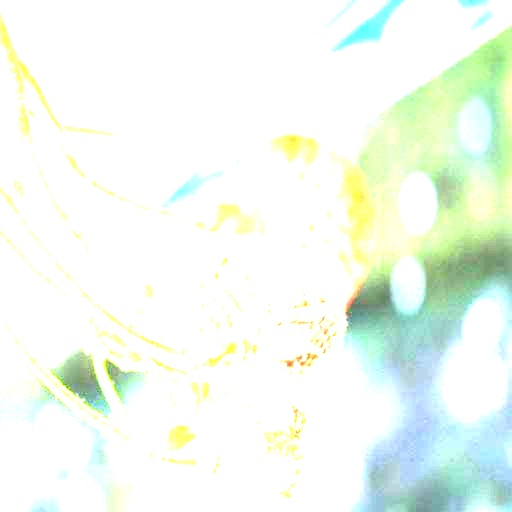Gray Mold: (211, 282, 348, 426)
